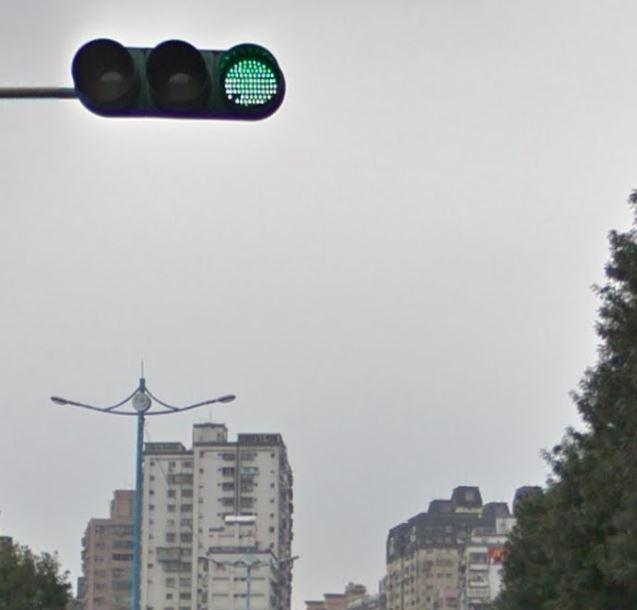green_traffic_light: (67, 33, 286, 124)
